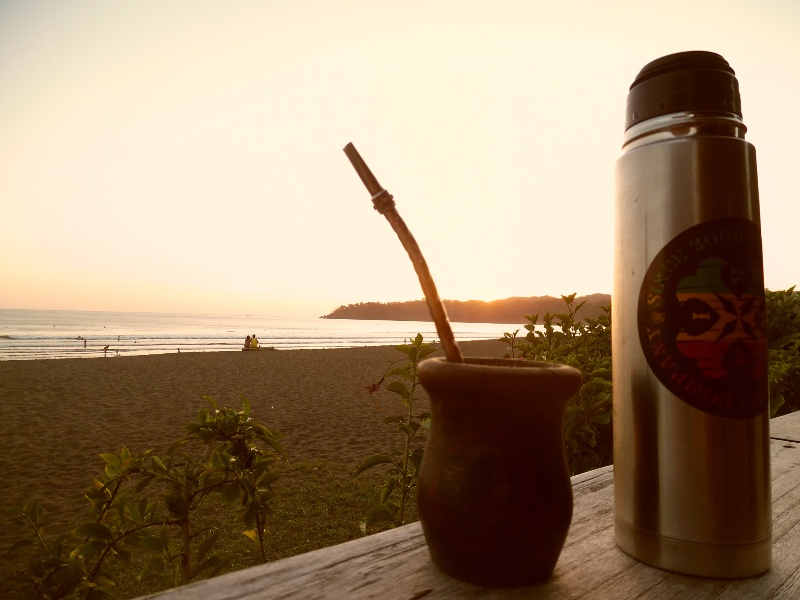guampa: (331, 136, 581, 595)
